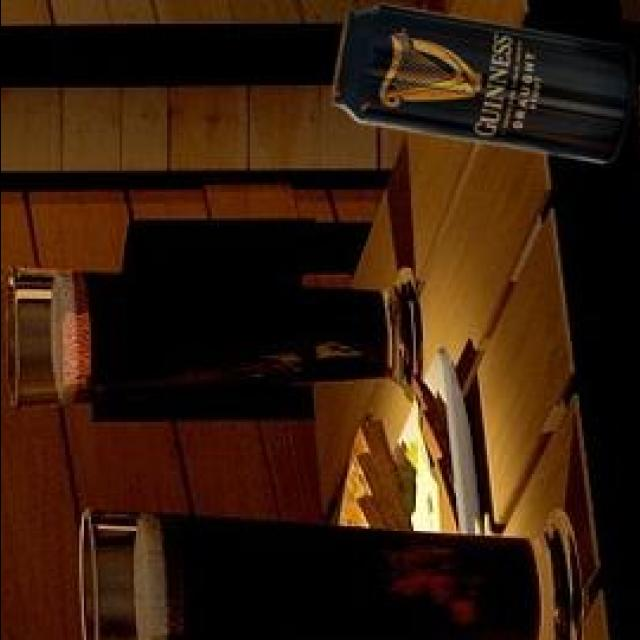logam: (328, 8, 632, 167)
